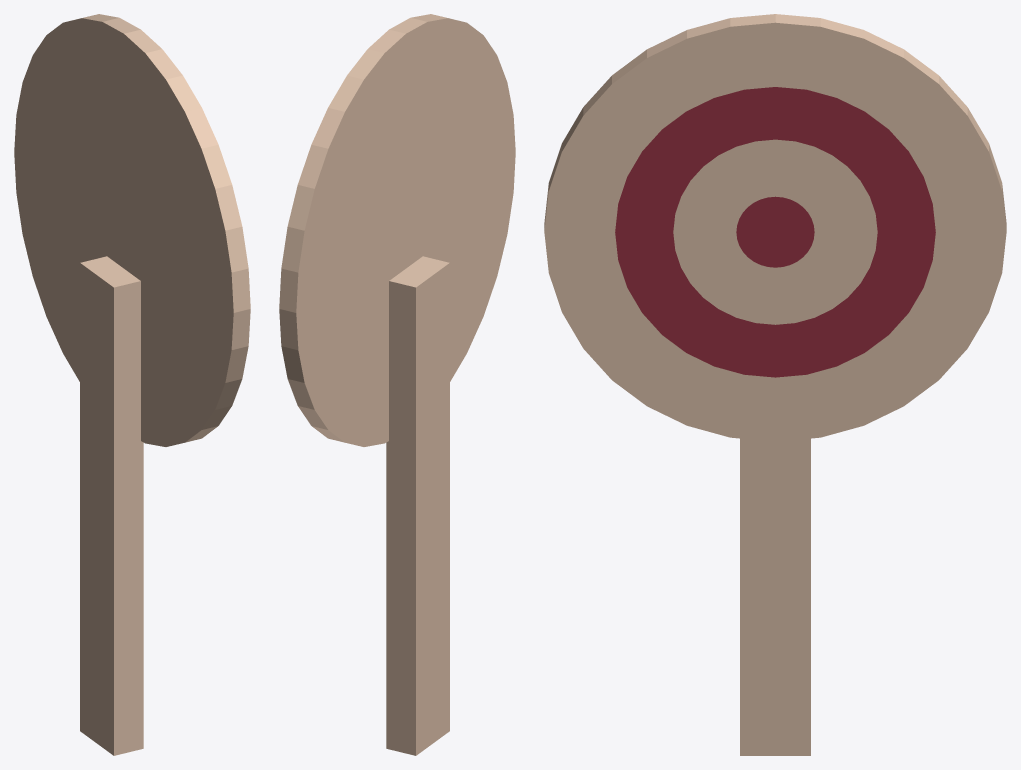
File: Target.glb
3 renders of one model, left to right at view 1: azimuth 30°, elevation 25°; view 2: azimuth 150°, elevation 25°; view 3: azimuth 270°, elevation 25°, orthographic. The views are drawn at different scales.
Visible parts, largest first — view 1: Cylinder.002, Cube.009; view 2: Cylinder.002, Cube.009; view 3: Cylinder.002, Cube.009.
Part boxes in pixels (x1,y1,x2,y2): Cylinder.002: [14, 14, 250, 446]; Cube.009: [80, 256, 143, 755]; Cylinder.002: [279, 14, 515, 446]; Cube.009: [386, 256, 449, 755]; Cylinder.002: [544, 14, 1006, 441]; Cube.009: [740, 438, 810, 755].
Size of the model in its own units: 0.1403 by 2.14 by 1.21.
